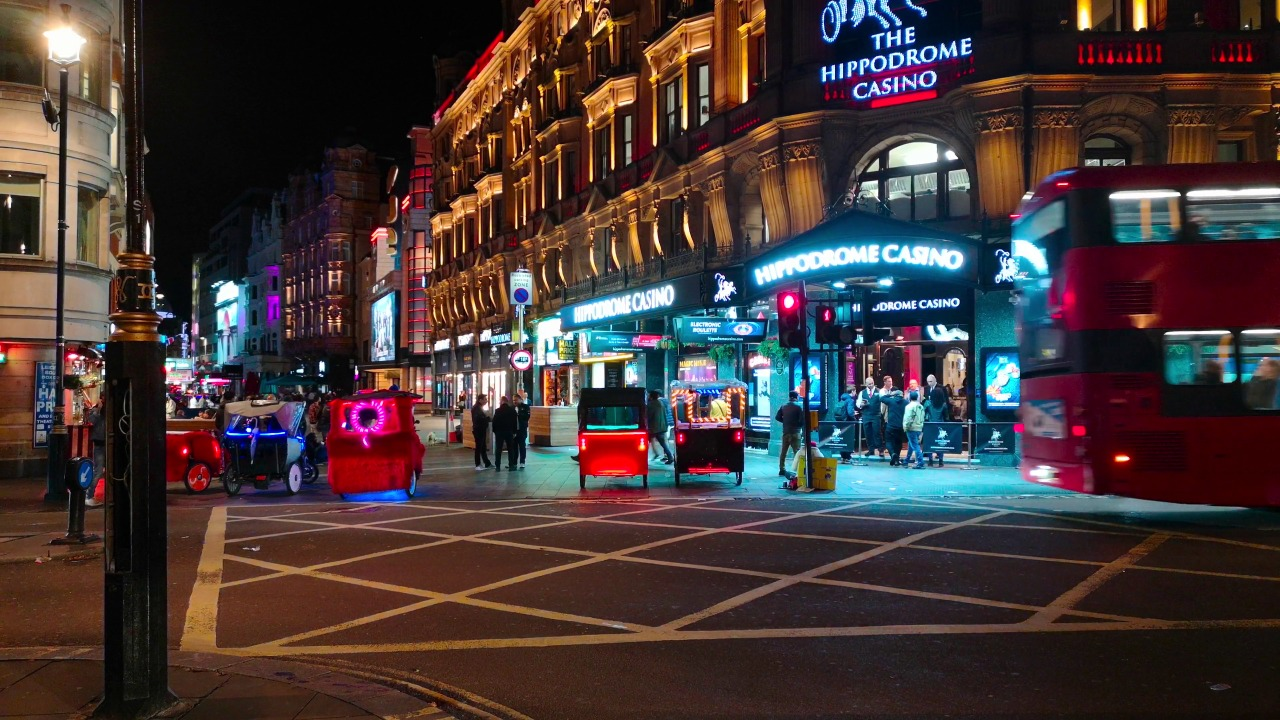car: (1015, 154, 1280, 520), (332, 395, 425, 506), (670, 384, 753, 491), (230, 400, 312, 497), (579, 392, 647, 500), (165, 426, 240, 501)
person: (774, 388, 804, 482), (639, 393, 677, 467), (488, 396, 519, 475), (468, 392, 496, 470), (855, 374, 883, 451), (88, 380, 106, 498), (834, 381, 858, 467), (511, 399, 538, 474), (905, 384, 926, 474), (791, 444, 826, 495), (881, 392, 903, 466), (930, 393, 947, 467), (1249, 356, 1278, 397), (874, 371, 892, 406), (1197, 357, 1216, 381), (926, 373, 944, 386)
